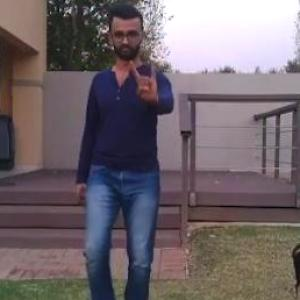takeoff-hand: (122, 54, 170, 110)
